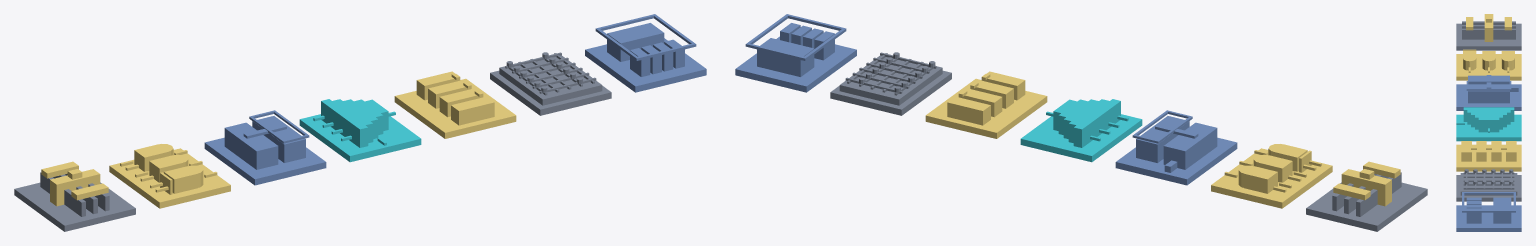
File: logic_foundation_v1.glb
3 renders of one model, left to right at view 1: azimuth 30°, elevation 25°; view 2: azimuth 150°, elevation 25°; view 3: azimuth 270°, elevation 25°, orthographic. The views are drawn at different scales.
Parts seen in each view (by area): view 1: tianedge__logic-sequential__fsm_stage, tianedge__logic-flip-flops__dff, tianedge__logic-multiplexers__mux, tianedge__logic-adders__full_adder, tianedge__logic-gates__nand_nor_xor, tianedge__logic-combinational__pla_matrix, tianedge__logic-transistors__mosfet, tianedge__logic-transistors__gate-stack; view 2: tianedge__logic-sequential__fsm_stage, tianedge__logic-flip-flops__dff, tianedge__logic-multiplexers__mux, tianedge__logic-adders__full_adder, tianedge__logic-gates__nand_nor_xor, tianedge__logic-combinational__pla_matrix, tianedge__logic-transistors__mosfet, tianedge__logic-transistors__gate-stack; view 3: tianedge__logic-sequential__fsm_stage, tianedge__logic-multiplexers__mux, tianedge__logic-flip-flops__dff, tianedge__logic-adders__full_adder, tianedge__logic-combinational__pla_matrix, tianedge__logic-gates__nand_nor_xor, tianedge__logic-transistors__mosfet, tianedge__logic-transistors__gate-stack.
Part boxes in pixels (bbox=[...]): tianedge__logic-sequential__fsm_stage: bbox=[585, 14, 706, 92]; tianedge__logic-flip-flops__dff: bbox=[204, 110, 326, 185]; tianedge__logic-multiplexers__mux: bbox=[299, 99, 421, 162]; tianedge__logic-adders__full_adder: bbox=[394, 71, 516, 138]; tianedge__logic-gates__nand_nor_xor: bbox=[109, 144, 230, 208]; tianedge__logic-combinational__pla_matrix: bbox=[490, 52, 611, 115]; tianedge__logic-transistors__mosfet: bbox=[14, 172, 135, 231]; tianedge__logic-transistors__gate-stack: bbox=[41, 161, 108, 206]; tianedge__logic-sequential__fsm_stage: bbox=[735, 14, 856, 92]; tianedge__logic-flip-flops__dff: bbox=[1115, 110, 1237, 185]; tianedge__logic-multiplexers__mux: bbox=[1020, 99, 1142, 162]; tianedge__logic-adders__full_adder: bbox=[925, 71, 1047, 138]; tianedge__logic-gates__nand_nor_xor: bbox=[1211, 144, 1332, 208]; tianedge__logic-combinational__pla_matrix: bbox=[830, 52, 951, 115]; tianedge__logic-transistors__mosfet: bbox=[1306, 172, 1427, 231]; tianedge__logic-transistors__gate-stack: bbox=[1333, 161, 1400, 206]; tianedge__logic-sequential__fsm_stage: bbox=[1456, 192, 1521, 231]; tianedge__logic-multiplexers__mux: bbox=[1456, 107, 1521, 141]; tianedge__logic-flip-flops__dff: bbox=[1456, 75, 1521, 110]; tianedge__logic-adders__full_adder: bbox=[1456, 141, 1521, 171]; tianedge__logic-combinational__pla_matrix: bbox=[1456, 169, 1521, 201]; tianedge__logic-gates__nand_nor_xor: bbox=[1456, 49, 1521, 80]; tianedge__logic-transistors__mosfet: bbox=[1456, 21, 1521, 50]; tianedge__logic-transistors__gate-stack: bbox=[1466, 14, 1511, 41].
Size of the model in its own units: 3.24 by 0.16 by 0.44.
